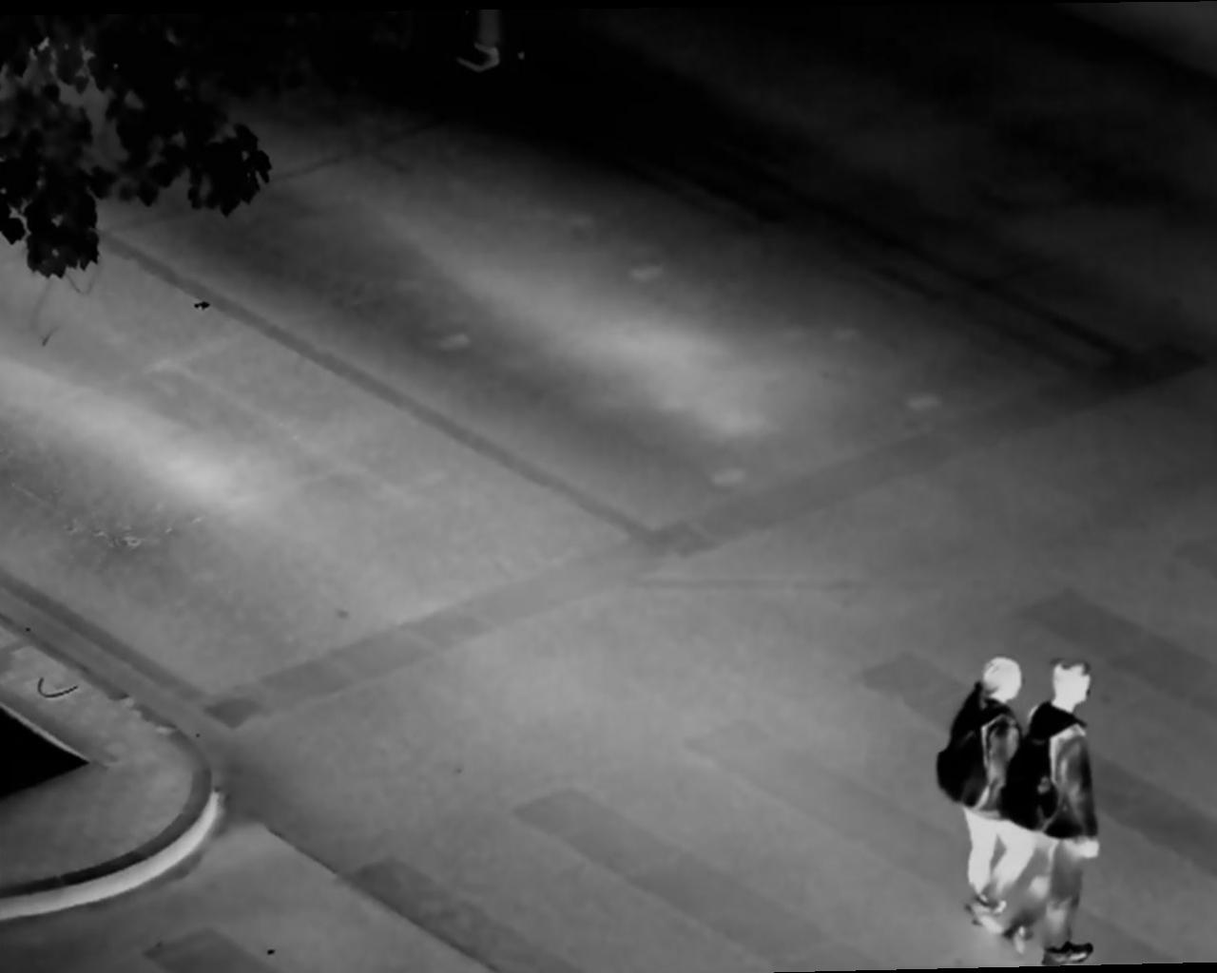person: (1010, 662, 1117, 973), (936, 653, 1022, 915)
